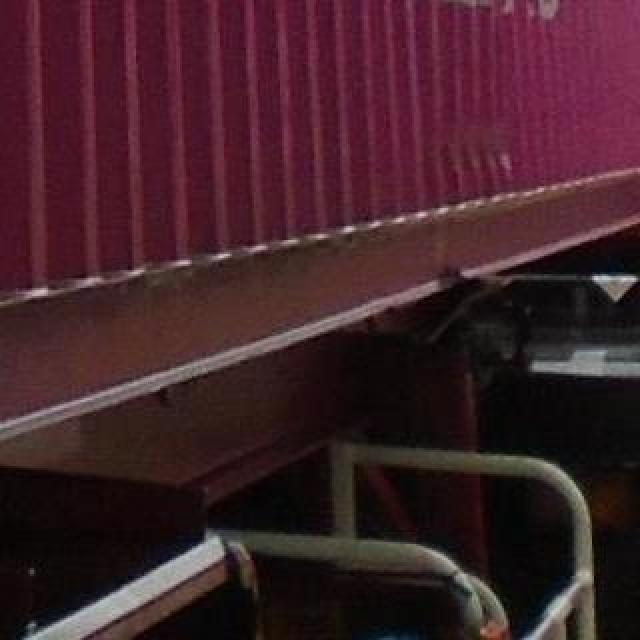dent: (429, 121, 523, 175)
